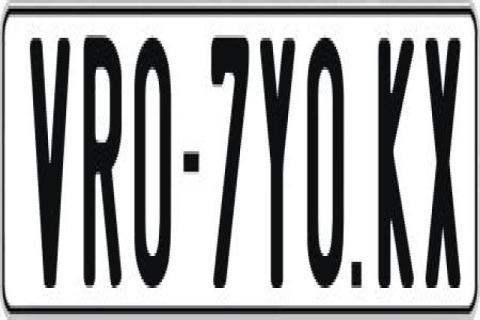0: (304, 32, 348, 282), (211, 32, 249, 288), (134, 35, 171, 285)
K: (379, 38, 415, 306)
R: (84, 32, 122, 285)
V: (30, 38, 76, 306)
X: (426, 32, 464, 288)
Y: (260, 29, 302, 288)
